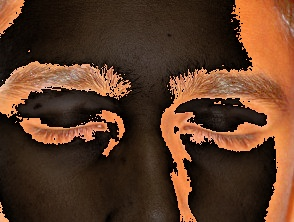vitiligo: (155, 53, 293, 173), (0, 56, 132, 169)
